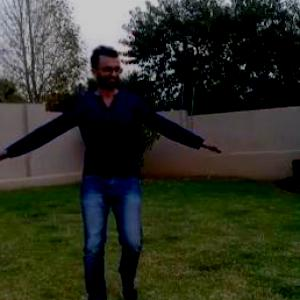land: (1, 13, 254, 299)
